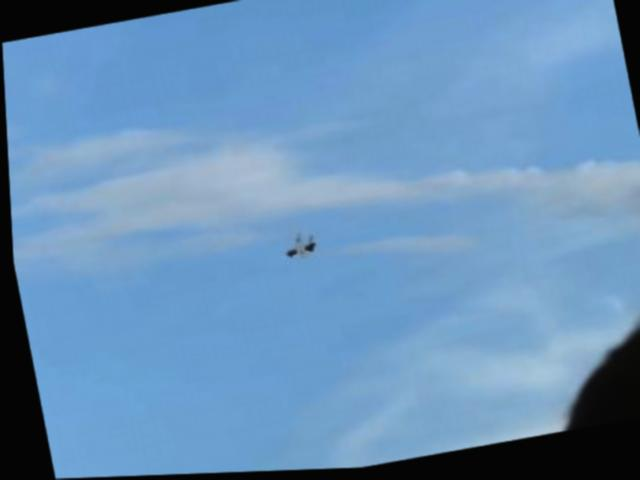uav: (276, 224, 323, 273)
